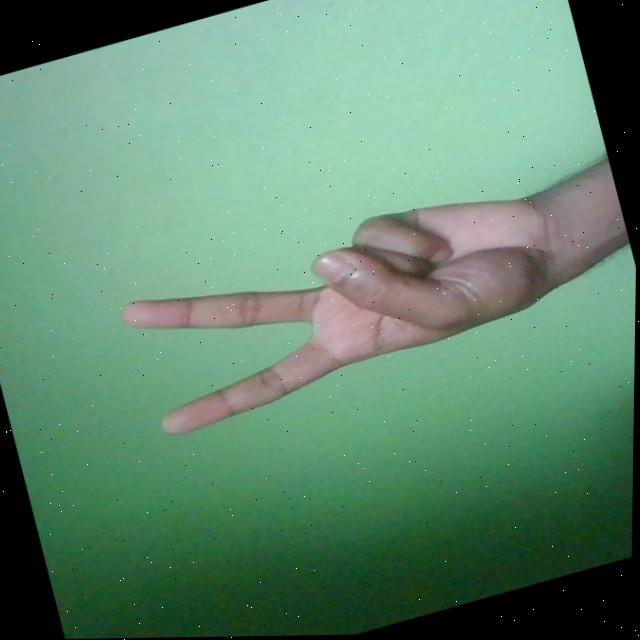Peace: (110, 166, 590, 442)
